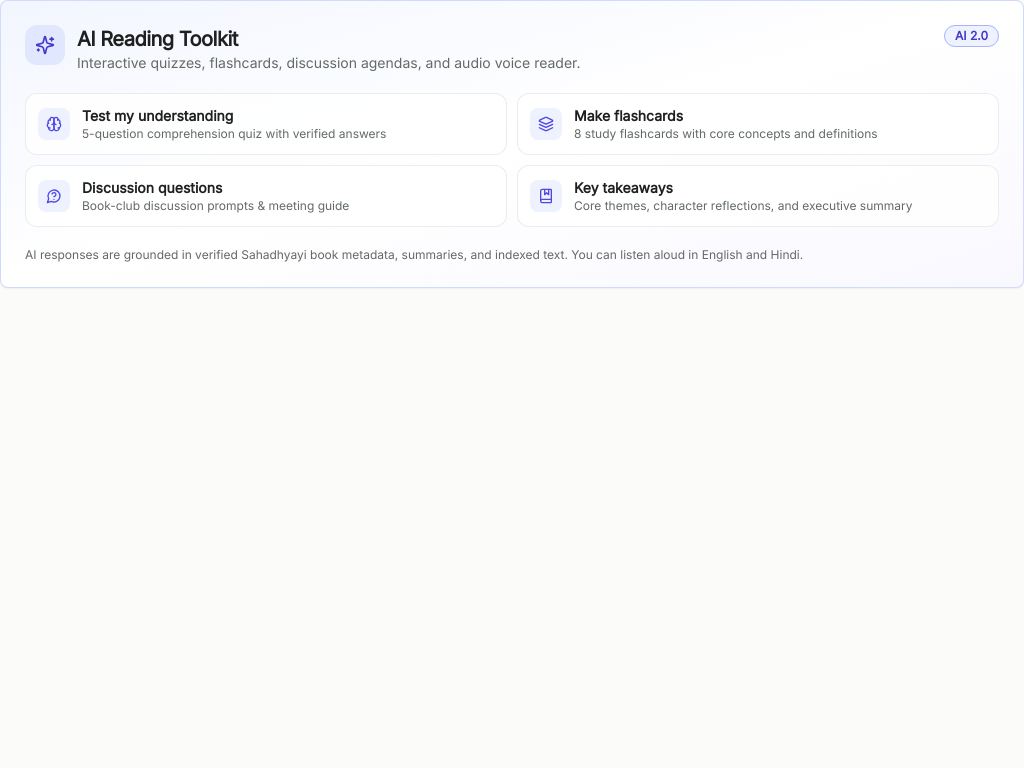
AIReadingToolkit › generates activity with citations and page links when clicked
The width and height of the screenshot is (1024, 768).
Step 1. Click the button "Test my understanding" → click(266, 124), box [25,93,507,155]
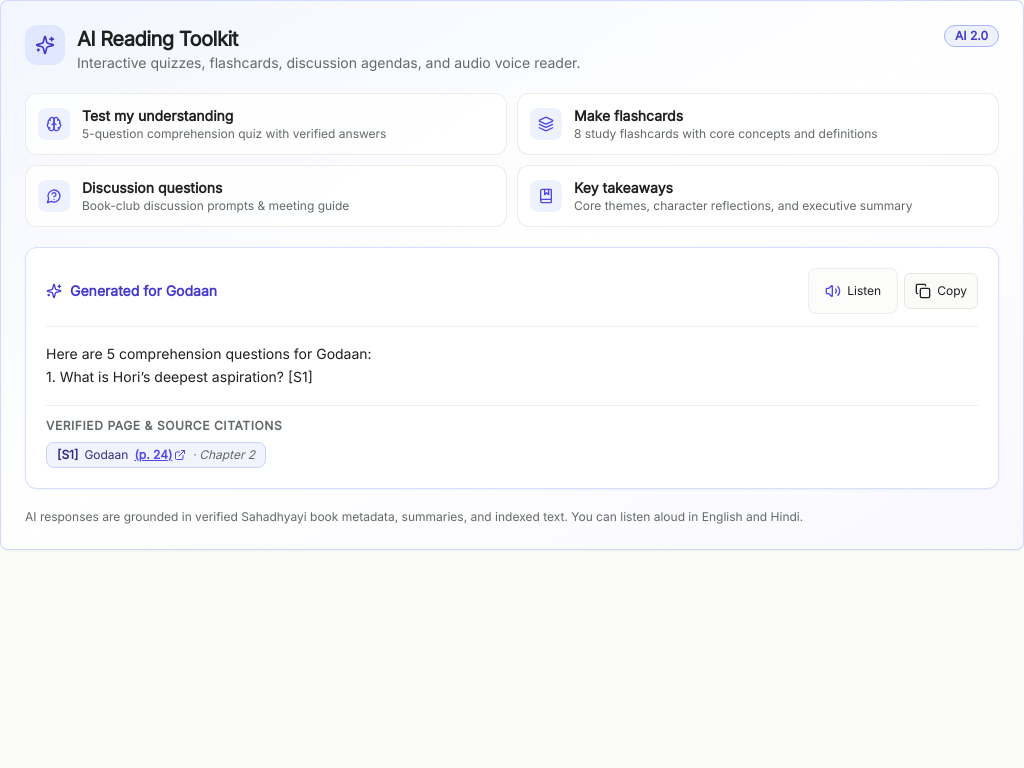
expect the text "Here are 5 comprehension questions" is shown: met, box [46,345,372,385]
expect the text "[S1]" is shown: met, box [57,446,78,462]
